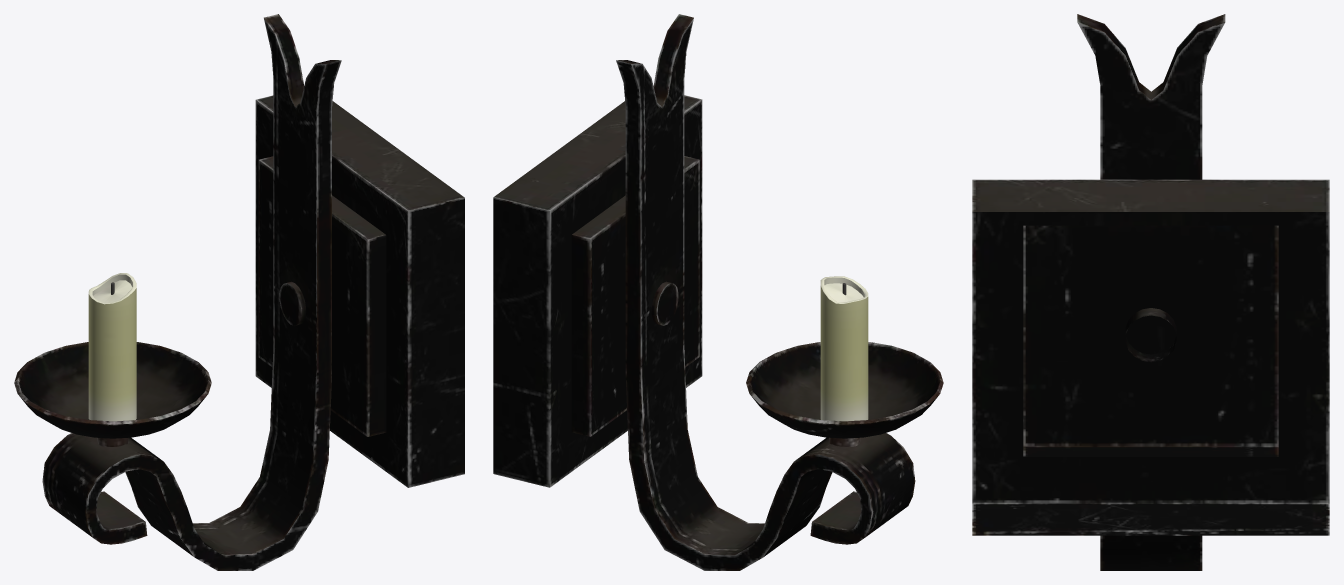
File: candle_wall_lamp.glb
3 renders of one model, left to right at view 1: azimuth 30°, elevation 25°; view 2: azimuth 150°, elevation 25°; view 3: azimuth 270°, elevation 25°, orthographic. The views are drawn at different scales.
Parts seen in each view (by area): view 1: Object_3, Object_4; view 2: Object_3, Object_4; view 3: Object_3.
Boxes of the visible parts, left/top/right/bottom form: Object_3: left=14, top=14, right=464, bottom=570; Object_4: left=88, top=273, right=136, bottom=421; Object_3: left=493, top=14, right=943, bottom=570; Object_4: left=820, top=276, right=868, bottom=421; Object_3: left=972, top=14, right=1329, bottom=570.
Bounding box in the file's own units: 17.03 × 22.47 × 12.46.
Materials: 3 (3 with a texture image).
